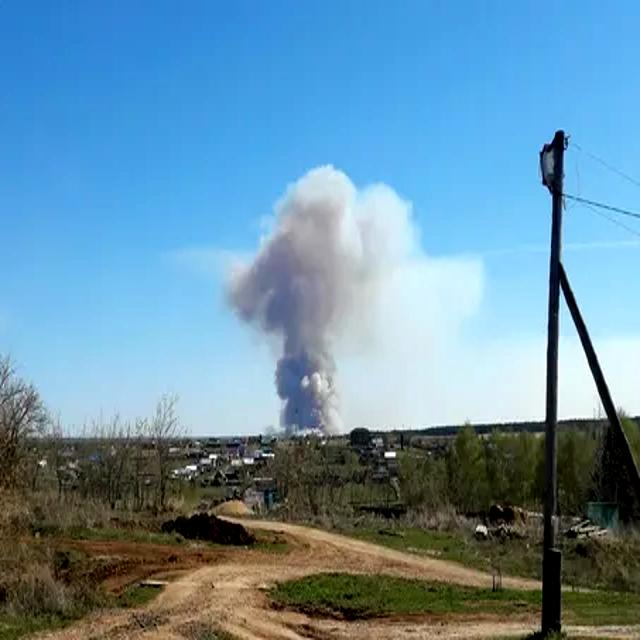no_helmet: (216, 165, 414, 433)
